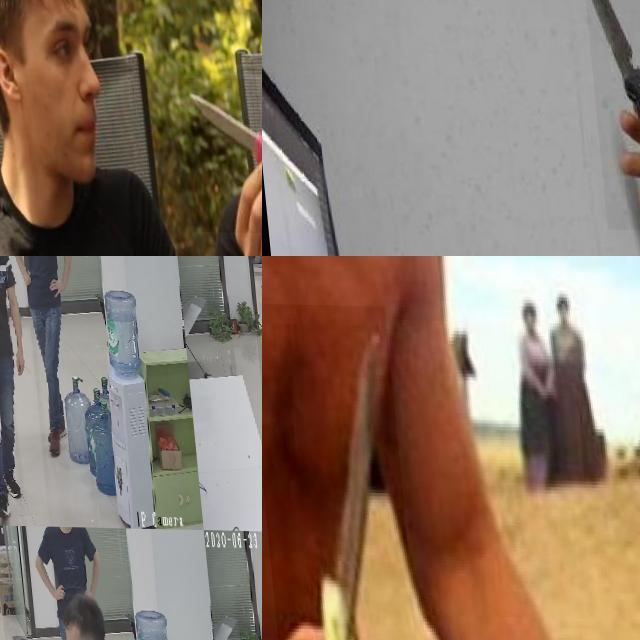-: (262, 302, 422, 640), (579, 0, 640, 229), (173, 76, 262, 232)
gun-knife-thesis - v11 Yolov5 augmented: (0, 273, 9, 307)
